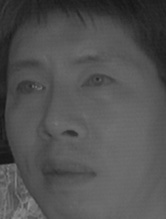eye: (78, 69, 120, 92), (9, 75, 47, 98)
mouth: (41, 156, 101, 190)
